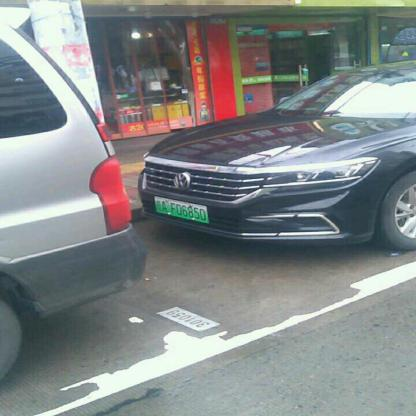lp: (154, 195, 207, 223)
